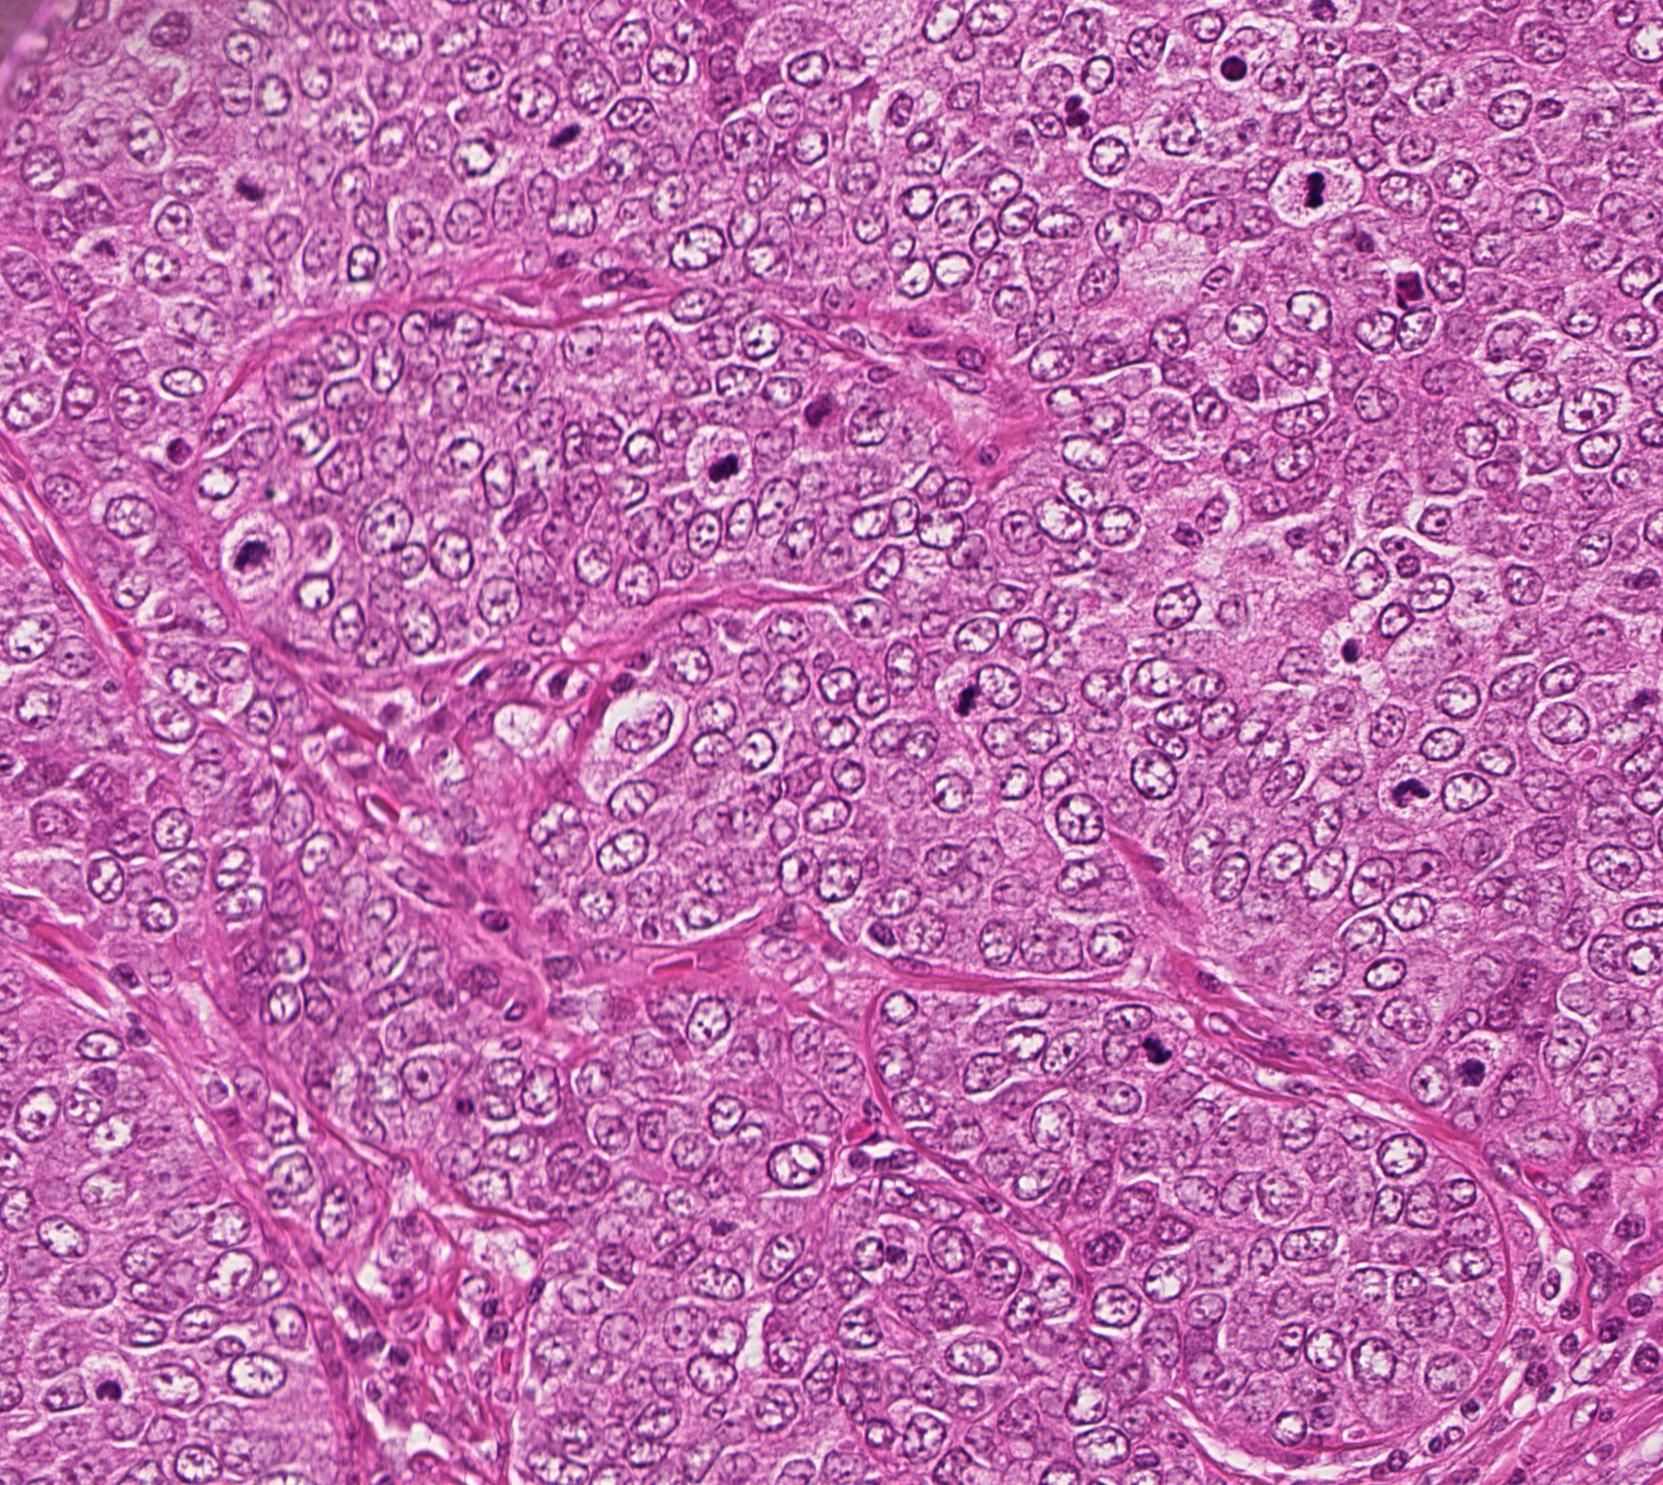mitosis: (232, 153, 292, 214), (926, 669, 986, 730), (687, 434, 745, 495), (1134, 1011, 1194, 1069), (1285, 151, 1343, 211), (533, 105, 594, 163), (224, 515, 284, 573), (1382, 753, 1442, 811), (1447, 1028, 1505, 1088)
